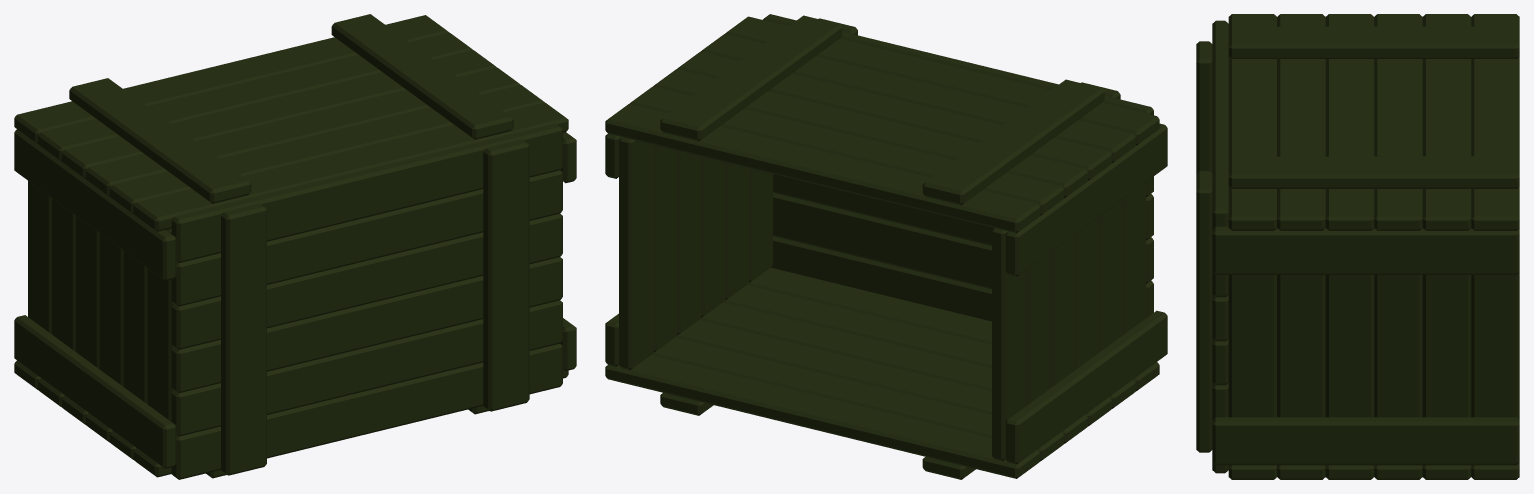
The model's file is MilitaryBox.glb.
3 views of the same model, side by side, from view 1: azimuth 30°, elevation 25°; view 2: azimuth 150°, elevation 25°; view 3: azimuth 270°, elevation 25° (orthographic).
Parts seen in each view (by area): view 1: MilitaryBox; view 2: MilitaryBox; view 3: MilitaryBox.
Part boxes in pixels (x1=…): MilitaryBox: x1=14, y1=14, x2=576, y2=479; MilitaryBox: x1=605, y1=14, x2=1167, y2=479; MilitaryBox: x1=1196, y1=14, x2=1519, y2=479.
Bounding box in the file's own units: 1.5 × 1 × 1.
Materials: 1 (1 with a texture image).
